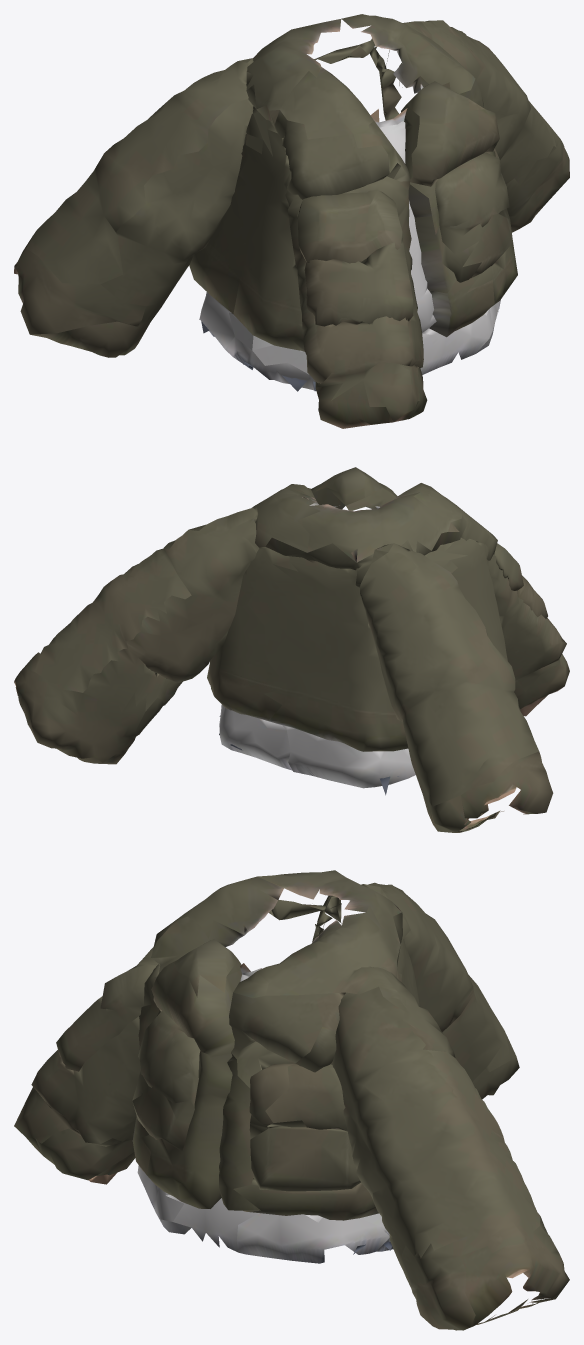
Rendered from jacket-olive.glb.
The picture shows the model from 3 angles, top to bottom: view 1: azimuth 30°, elevation 25°; view 2: azimuth 150°, elevation 25°; view 3: azimuth 270°, elevation 25°; orthographic projection. The views are drawn at different scales.
Parts seen in each view (by area): view 1: top_jacket-olive_0; view 2: top_jacket-olive_0; view 3: top_jacket-olive_0.
Boxes of the visible parts, x1,y1,x2,y2 form: top_jacket-olive_0: [14, 14, 569, 428]; top_jacket-olive_0: [14, 467, 569, 832]; top_jacket-olive_0: [14, 870, 569, 1330].
Size of the model in its own units: 0.5686 by 0.2914 by 0.4539.
1 material, 1 textured.
